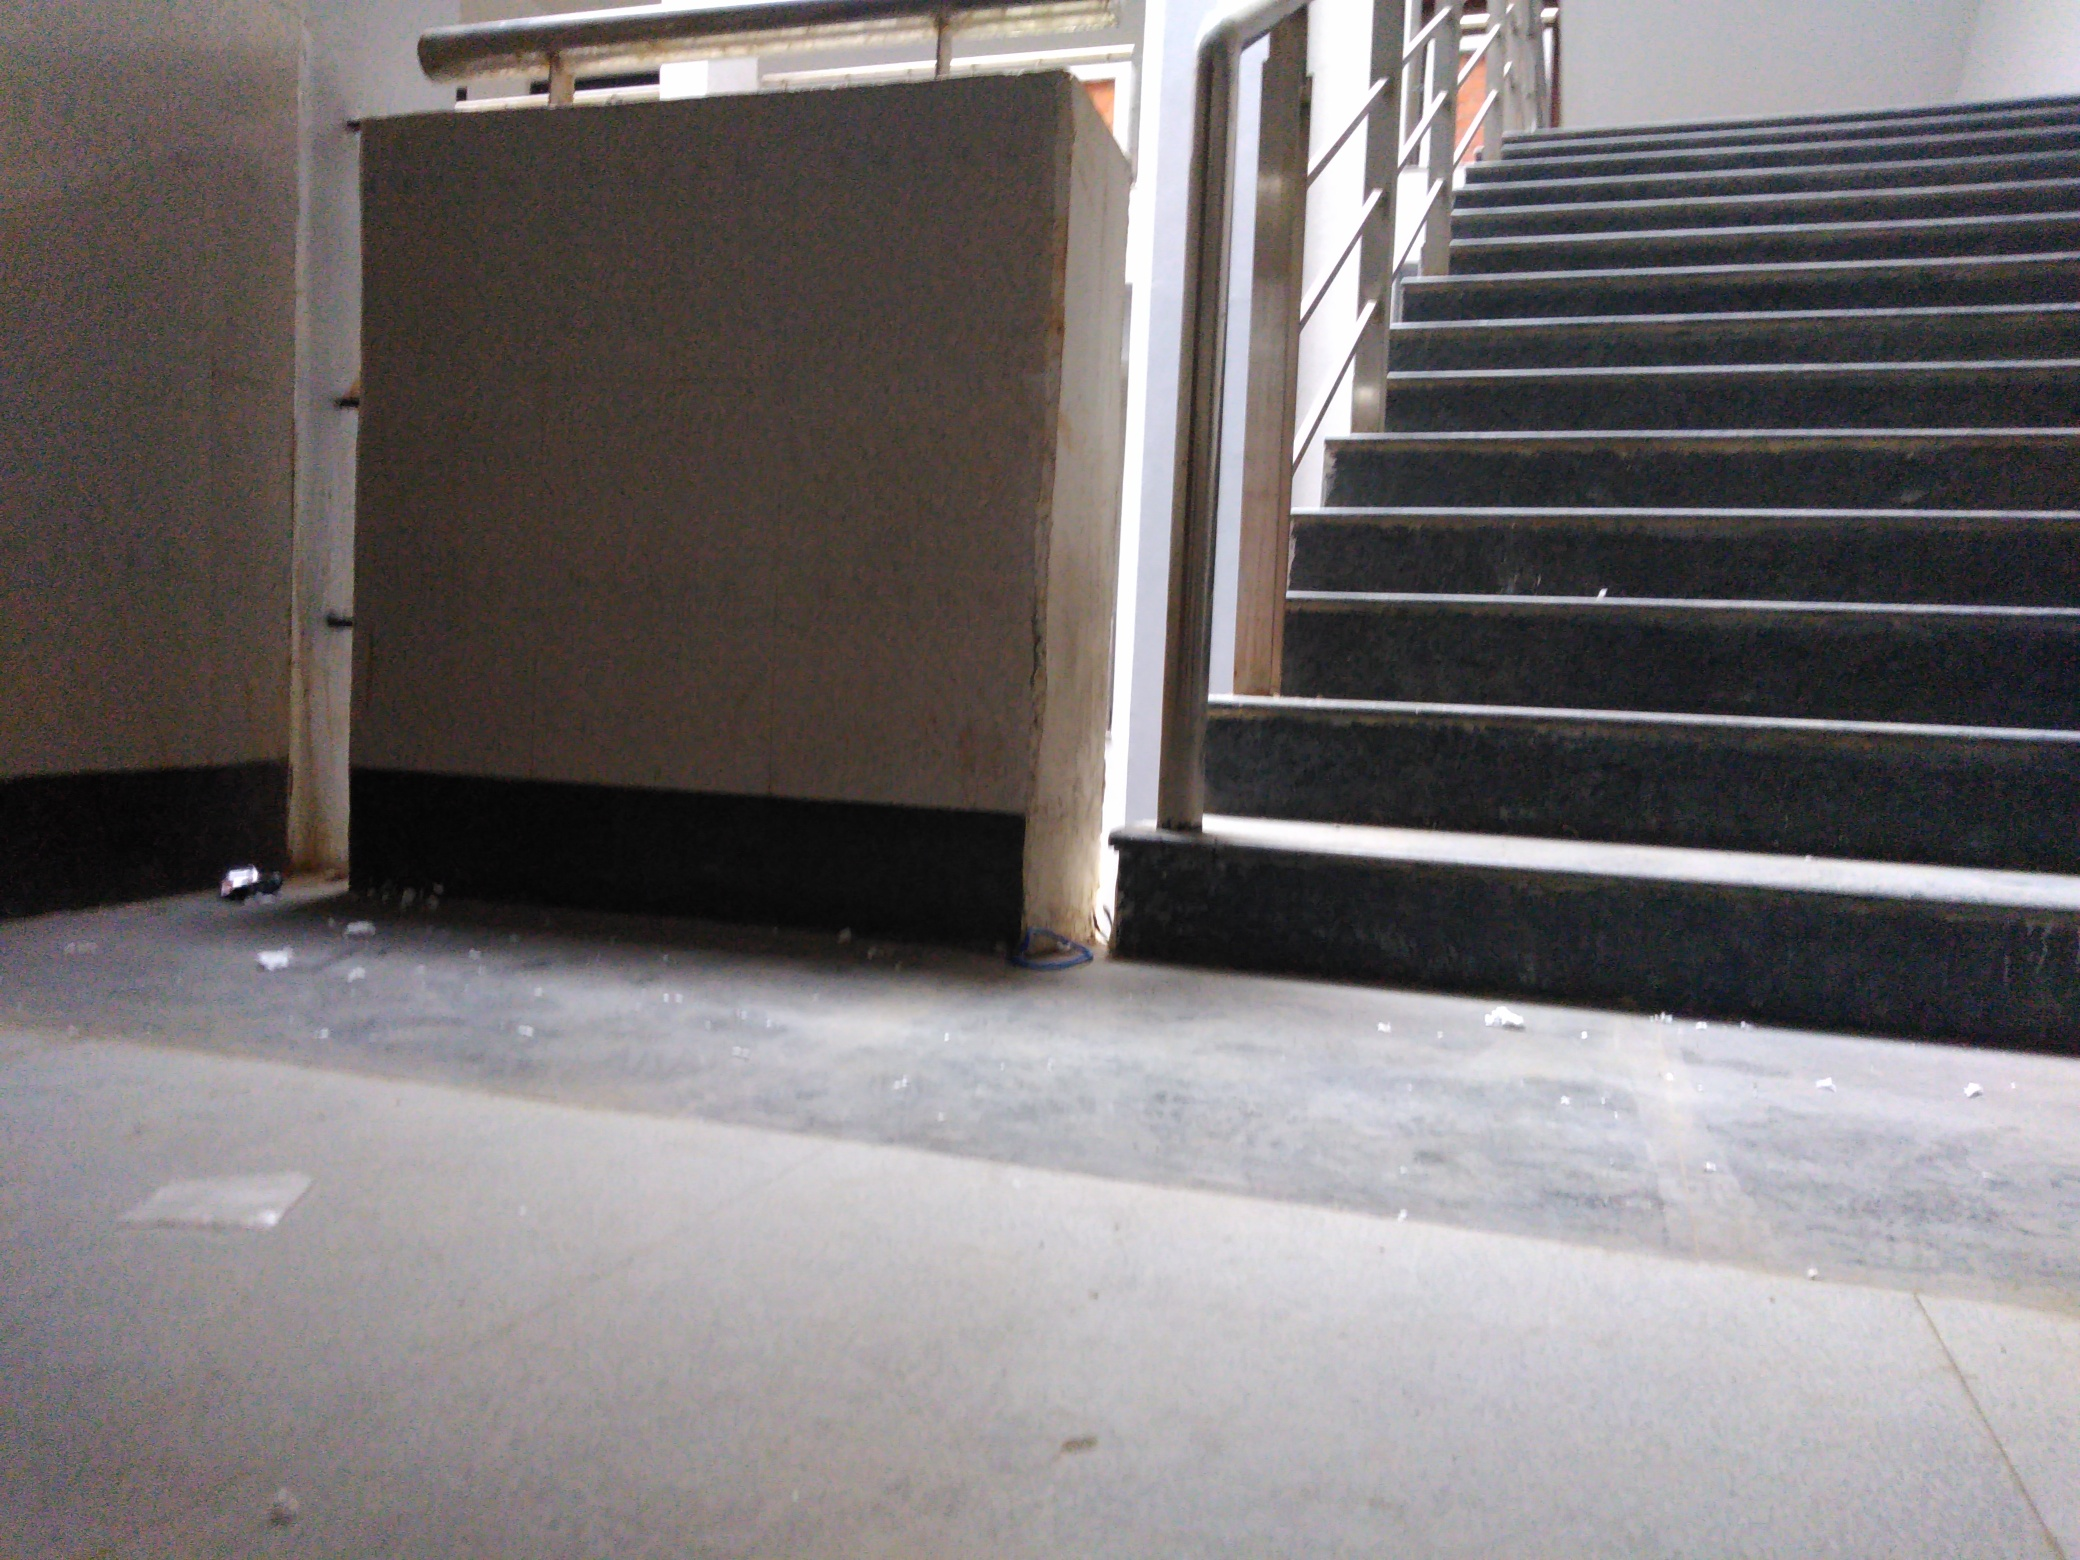stairs_up: (1302, 103, 2065, 1024)
